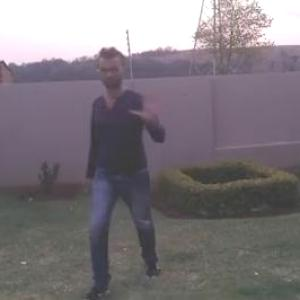follow_hand: (127, 84, 167, 120)
